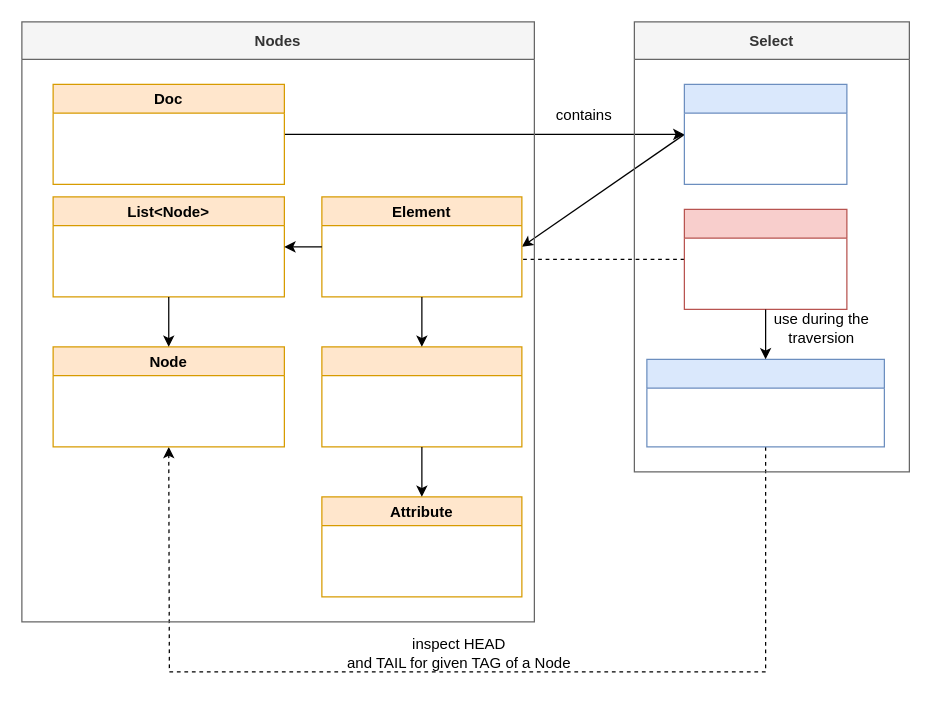
The diagram is 931 pixels wide and 704 high, and some of its shapes have lost their labels. The shapes that lost their labels are listed below. From the top down, each one's centre as x and y in pixels, then its label:
At point (765, 133): "Elements".
At point (765, 258): "Traverser".
At point (421, 396): "Attributes".
At point (765, 402): "Visitor".
